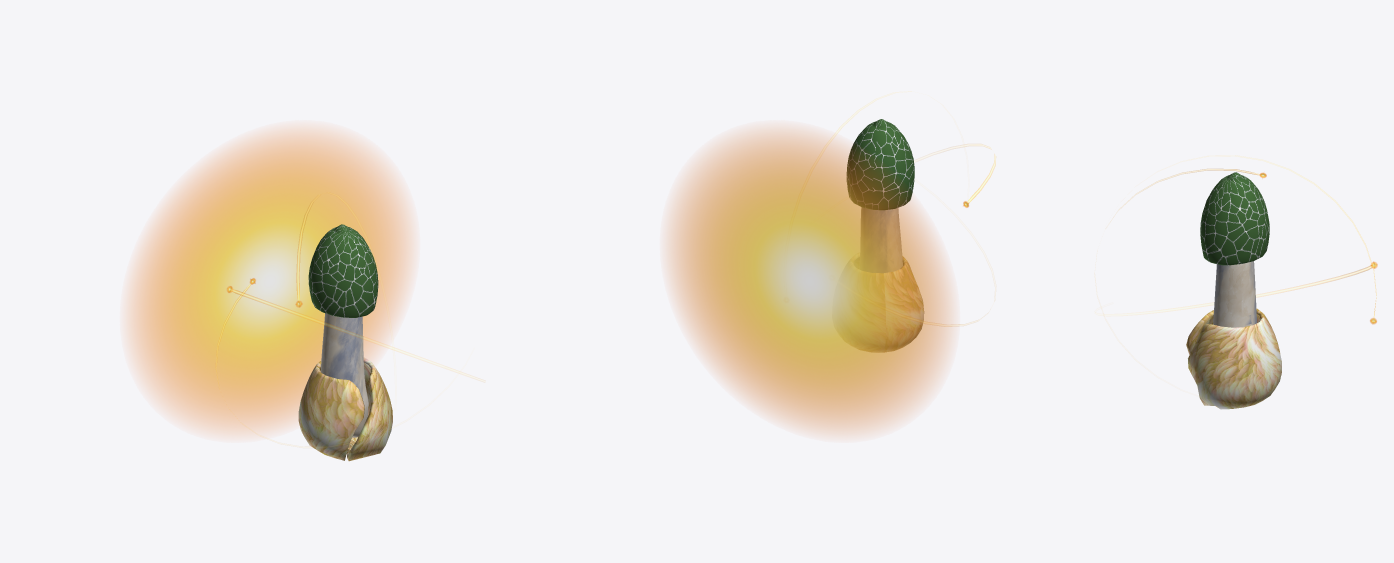
Rendered from veselka.glb.
3 views of the same model, side by side, from view 1: azimuth 30°, elevation 25°; view 2: azimuth 150°, elevation 25°; view 3: azimuth 270°, elevation 25° (orthographic).
Parts seen in each view (by area): view 1: orange glow, 3, 1, 2; view 2: orange glow, 1, 3, 2; view 3: 3, 1, 2, atom1.003.
Part boxes in pixels (x1=…): orange glow: x1=129, y1=130, x2=410, y2=432; 3: x1=298, y1=357, x2=392, y2=461; 1: x1=308, y1=224, x2=378, y2=317; 2: x1=321, y1=313, x2=368, y2=437; orange glow: x1=669, y1=130, x2=950, y2=432; 1: x1=846, y1=119, x2=914, y2=210; 3: x1=844, y1=253, x2=924, y2=352; 2: x1=860, y1=207, x2=902, y2=272; 3: x1=1186, y1=308, x2=1281, y2=409; 1: x1=1200, y1=172, x2=1269, y2=265; 2: x1=1213, y1=261, x2=1256, y2=327; atom1.003: x1=1263, y1=261, x2=1377, y2=295.
Bounding box in the file's own units: 10.28 × 10.28 × 4.98.
6 materials, 6 textured.
